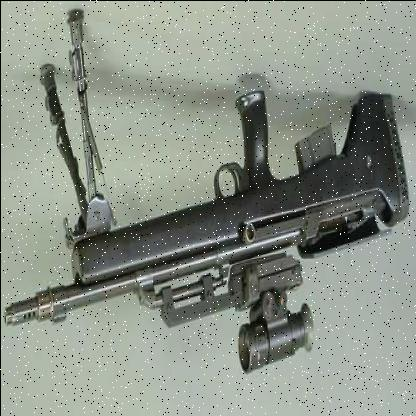rifle: (4, 32, 411, 390)
